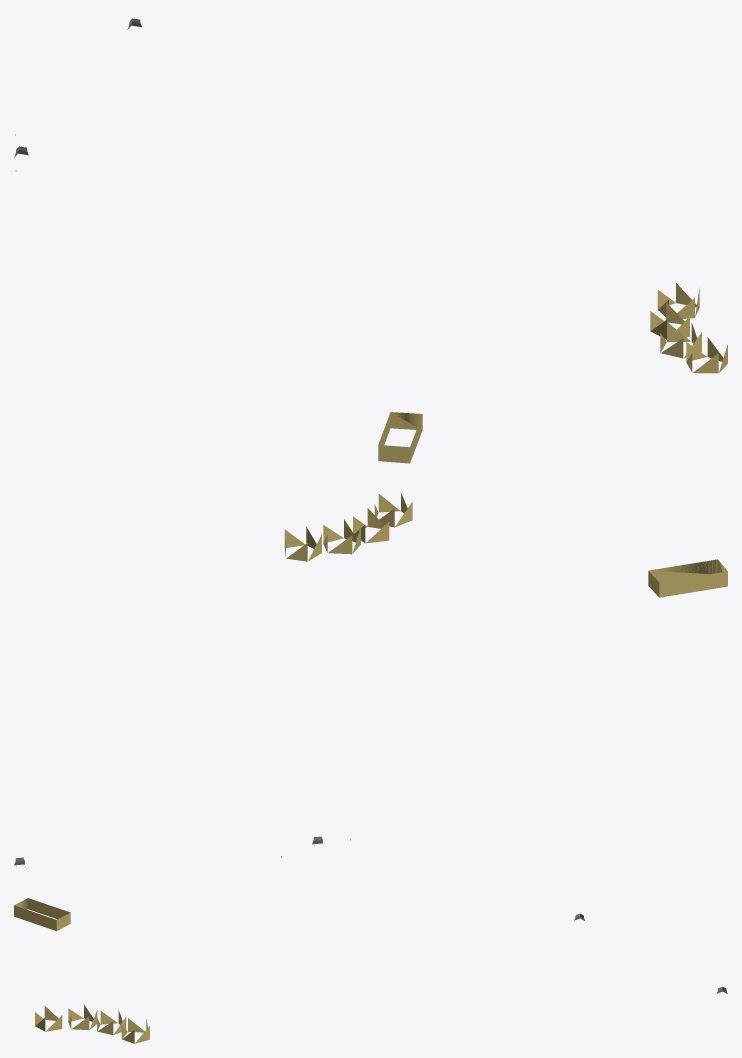
3 views of the same model, one above another, from view 1: azimuth 30°, elevation 25°; view 2: azimuth 150°, elevation 25°; view 3: azimuth 270°, elevation 25° (orthographic). The views are drawn at different scales.
Bounding box in the file's own units: 255 × 12.5 × 572.
